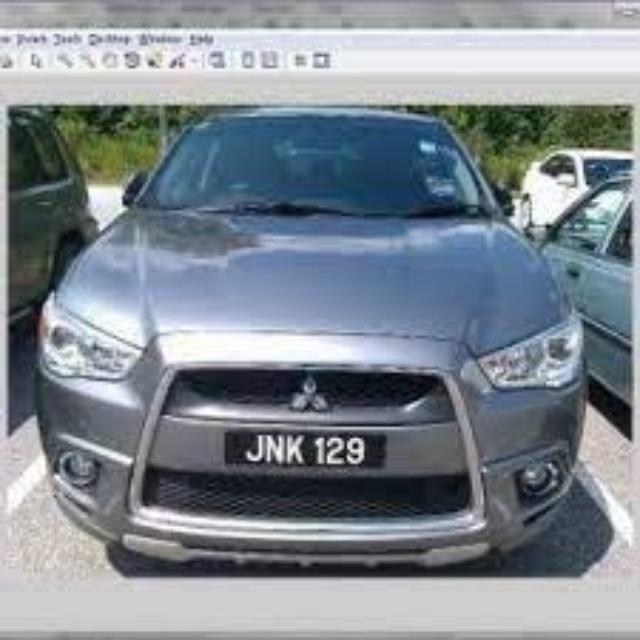License_Plate: (223, 424, 390, 478)
car: (29, 109, 582, 569)
